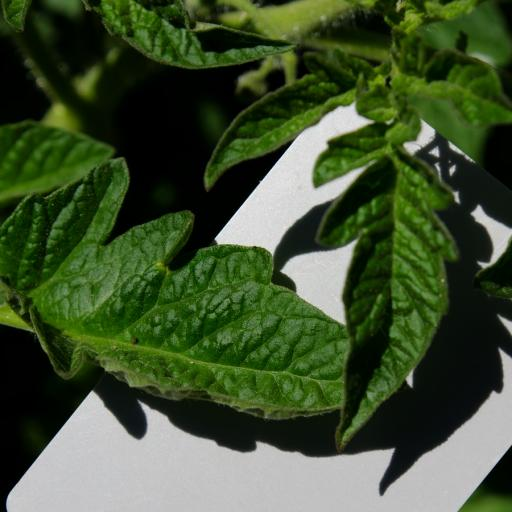Healthy: (0, 155, 348, 420), (312, 111, 460, 453), (202, 67, 360, 192)
